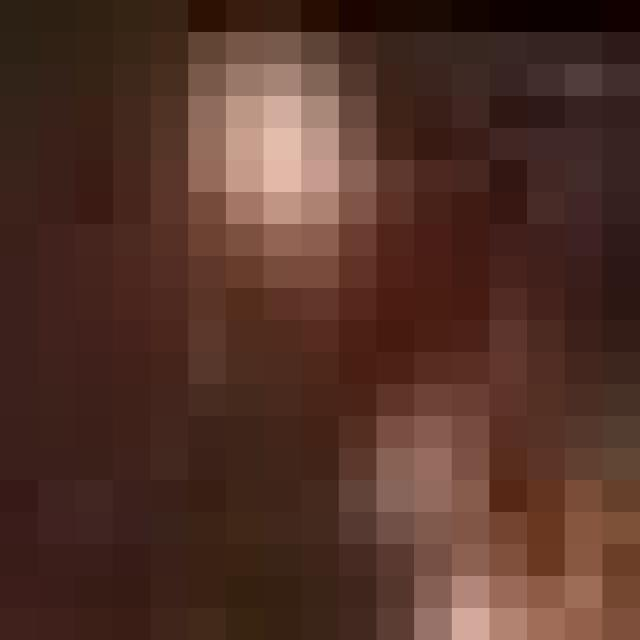nofire: (37, 0, 640, 640)
